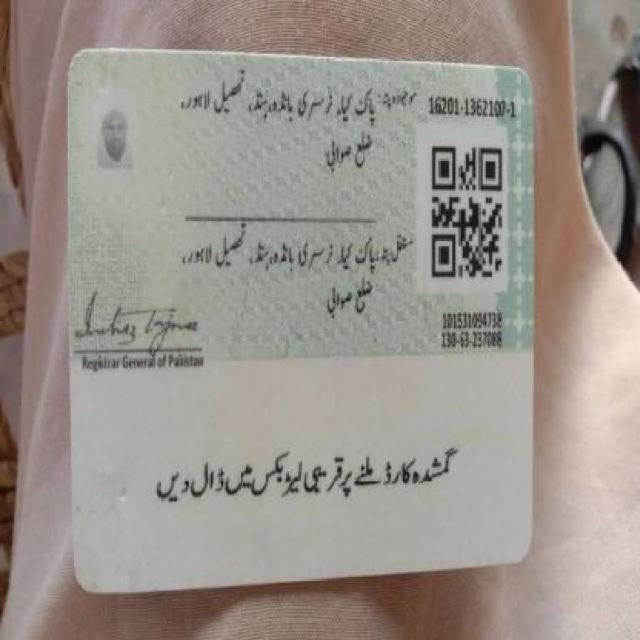Back: (65, 46, 537, 582)
